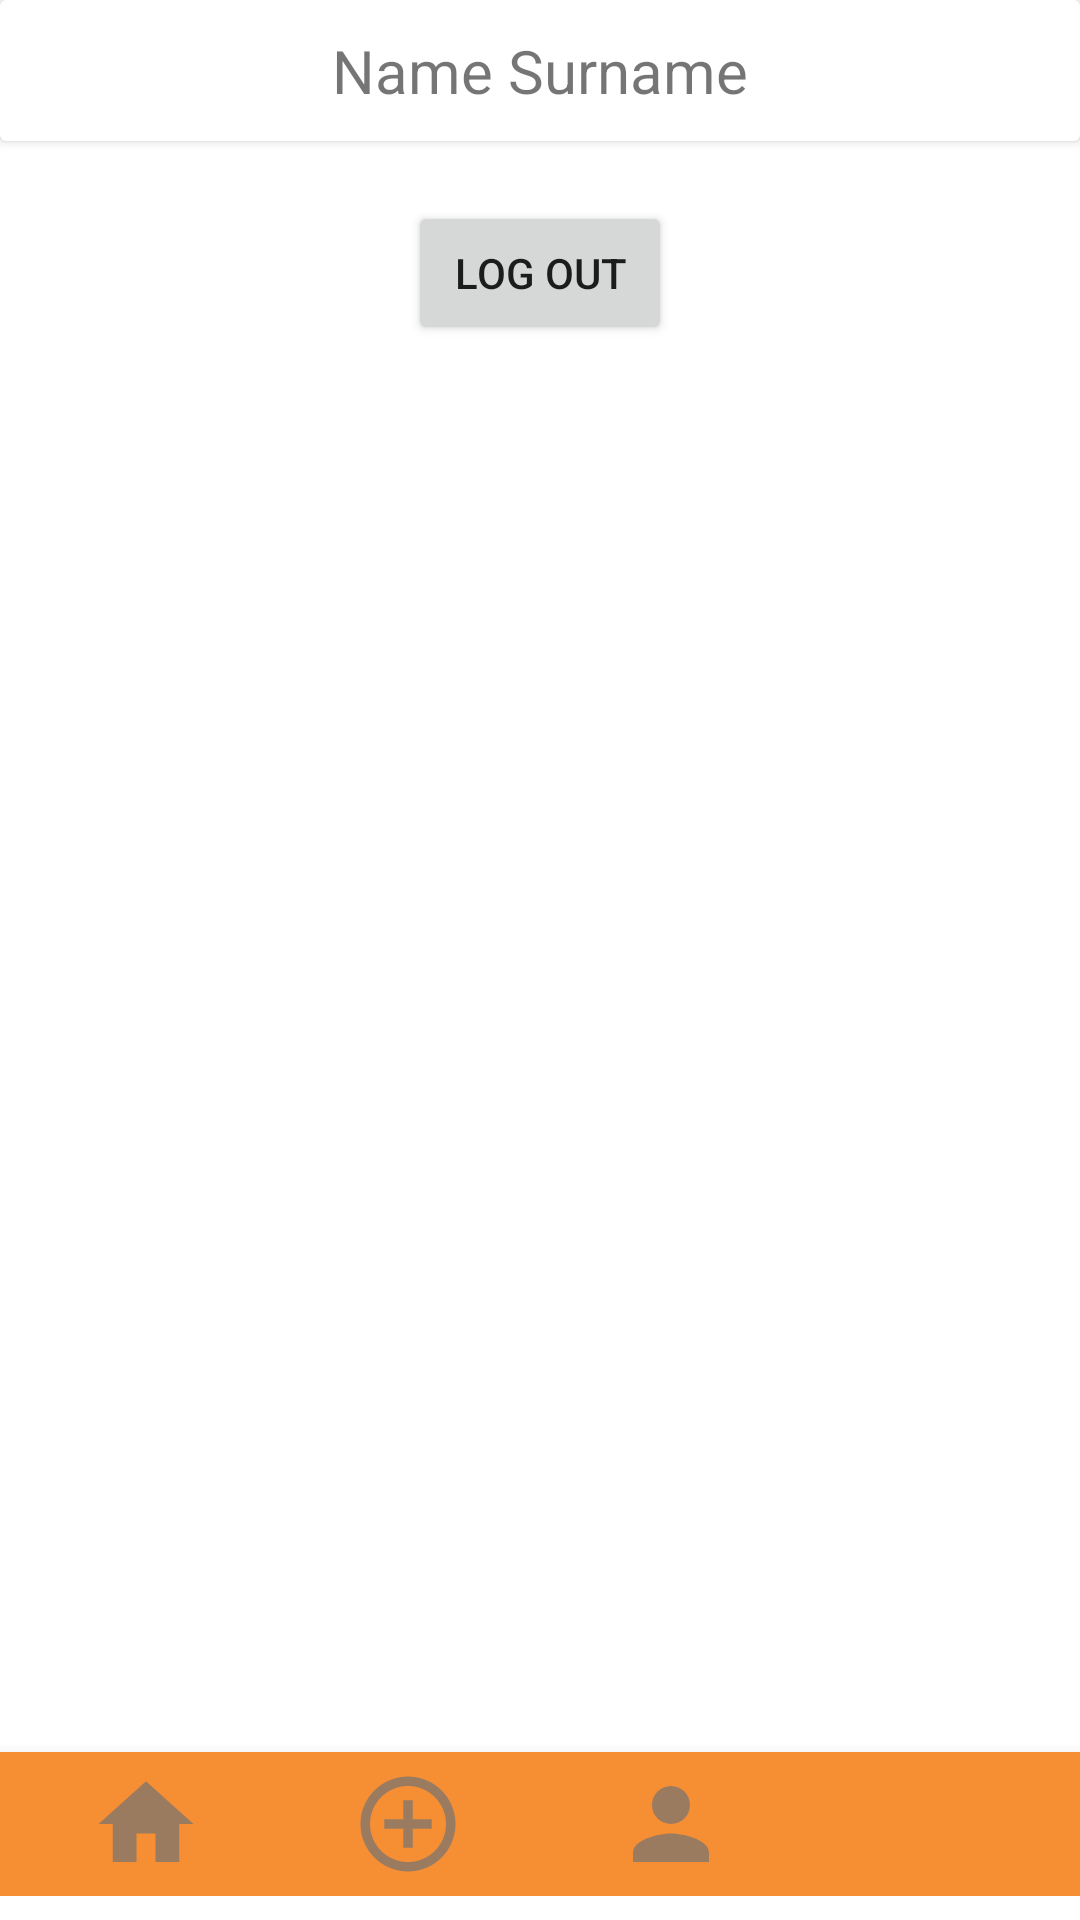

Screen size 1080 x 1920. Icon name, then its box in pixels as (x1, y1, x2, y2):
add: (360, 1776, 456, 1872)
home: (99, 1781, 193, 1862)
profile: (633, 1786, 709, 1862)
